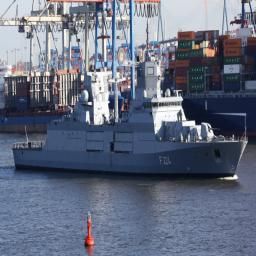Fragata: (13, 19, 249, 182)
